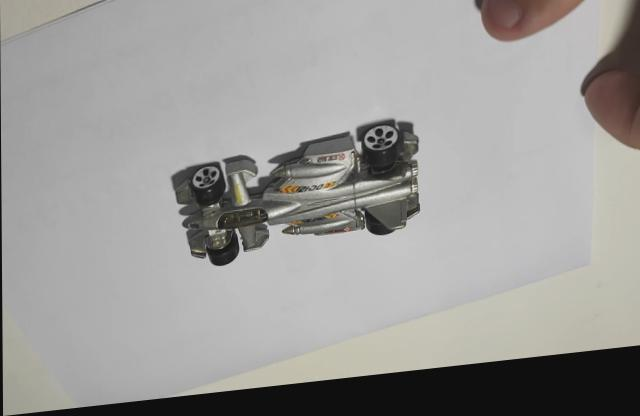05_DC121: (169, 127, 420, 270)
